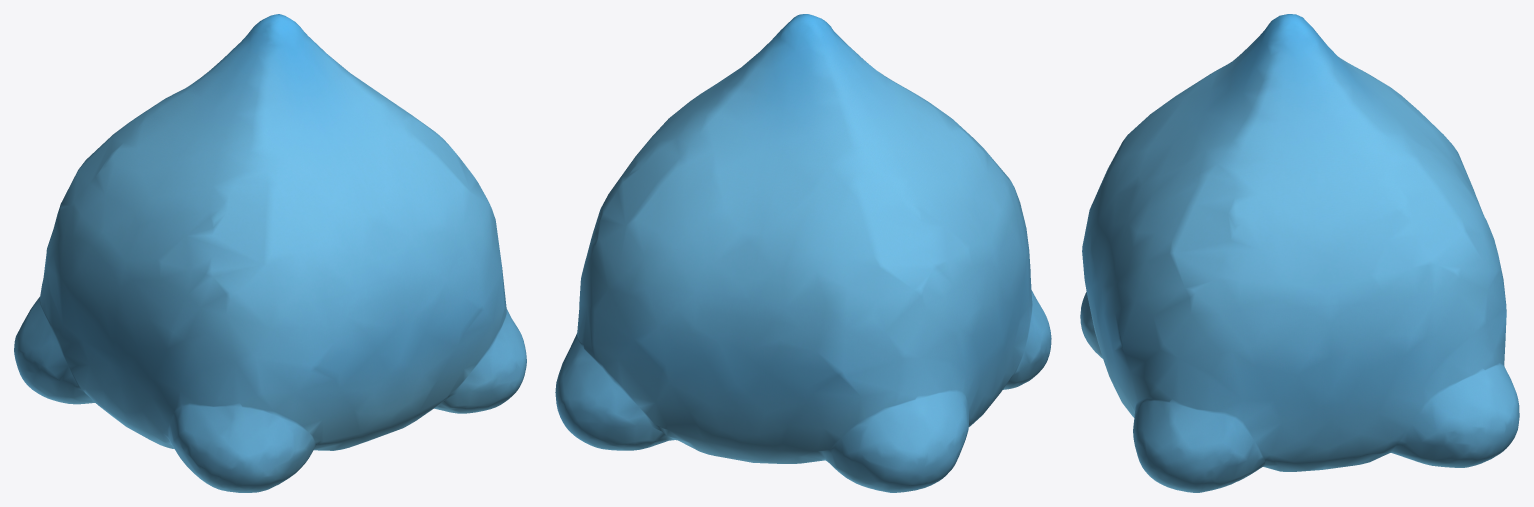
The model's file is Slime.fbx.
The picture shows the model from 3 angles, left to right: view 1: azimuth 30°, elevation 25°; view 2: azimuth 150°, elevation 25°; view 3: azimuth 270°, elevation 25°; orthographic projection.
Parts seen in each view (by area): view 1: tripo_463bf8ec_b5b0_4b71_b754_af7fd86dba78; view 2: tripo_463bf8ec_b5b0_4b71_b754_af7fd86dba78; view 3: tripo_463bf8ec_b5b0_4b71_b754_af7fd86dba78.
Part boxes in pixels (x1=…): tripo_463bf8ec_b5b0_4b71_b754_af7fd86dba78: x1=14, y1=14, x2=526, y2=492; tripo_463bf8ec_b5b0_4b71_b754_af7fd86dba78: x1=555, y1=14, x2=1051, y2=492; tripo_463bf8ec_b5b0_4b71_b754_af7fd86dba78: x1=1080, y1=14, x2=1519, y2=492.
Size of the model in its own units: 1.07 by 0.9995 by 1.
1 material, 1 textured.
